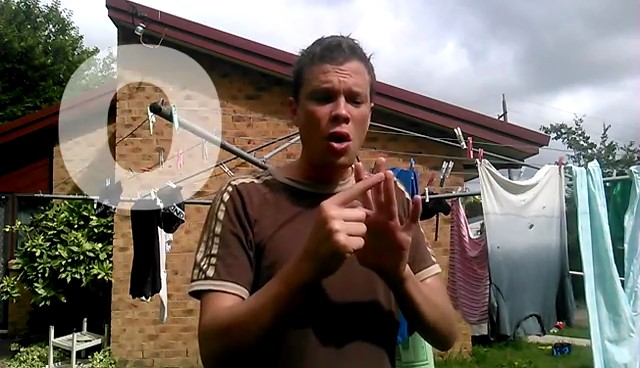O: (292, 154, 426, 291)
